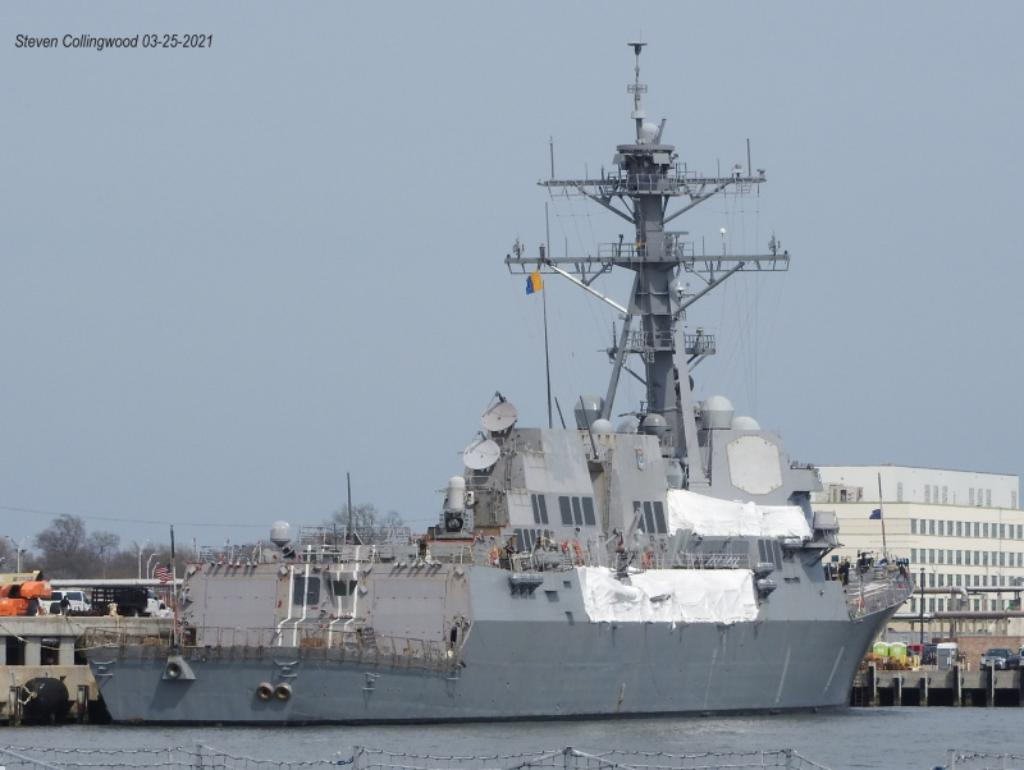Warship: (77, 34, 923, 728)
